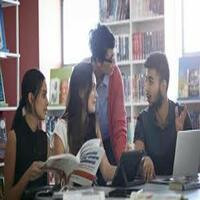person: (72, 23, 130, 86), (139, 47, 181, 115), (68, 43, 100, 128), (18, 55, 55, 128)
